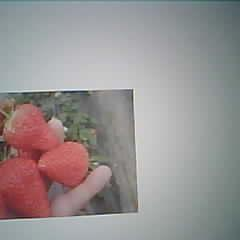straw-ripe: (1, 158, 48, 218), (3, 104, 56, 150), (39, 143, 89, 187)
